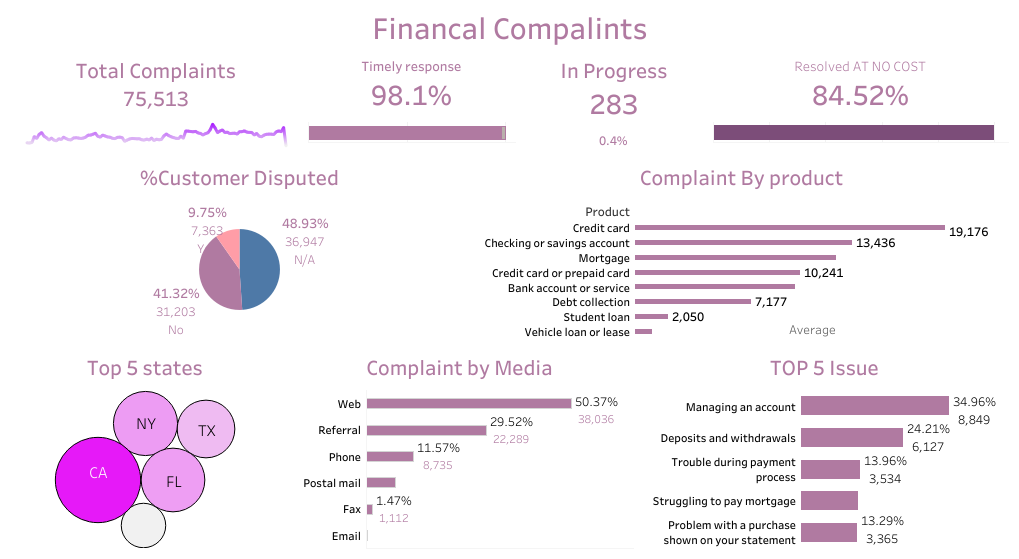

The dashboard page shown, as its layout file describes it:
{"tool":"tableau","page":{"name":"Dashboard 1","canvas":[1000,1000],"units":"permille","ordinal":0},"visuals":[{"type":"text","box":[7.8,14.3,984.3,67.8]},{"type":"worksheet","title":"Total Complaints","mark":"Automatic","rows":["Financial Consumer Complaints.csv_AD0FA6831B8F4021AAC9E62C09"],"cols":["Date Sumbited"],"box":[7.8,82.1,290.2,190.6]},{"type":"worksheet","title":"Timely response","mark":"Automatic","box":[298,82.1,210.8,190.6]},{"type":"worksheet","title":"In Progress","mark":"Automatic","box":[508.8,82.1,186.3,190.6]},{"type":"worksheet","title":"Resolved AT NO COST  ","mark":"Automatic","box":[695.1,82.1,297.1,190.6]},{"type":"worksheet","title":"%Customer Disputed","mark":"Pie","box":[7.8,272.7,453.9,340]},{"type":"worksheet","title":"Complaint By product","mark":"Automatic","rows":["Product"],"cols":["Financial Consumer Complaints.csv_AD0FA6831B8F4021AAC9E62C09"],"box":[461.8,272.7,530.4,340]},{"type":"worksheet","title":"Top 5 states","mark":"Circle","box":[7.8,612.7,268.6,373]},{"type":"worksheet","title":"Complaint by Media","mark":"Bar","rows":["Submitted via"],"cols":["Financial Consumer Complaints.csv_AD0FA6831B8F4021AAC9E62C09"],"box":[276.5,612.7,348.1,373]},{"type":"worksheet","title":"TOP 5 Issue","mark":"Automatic","rows":["Issue"],"cols":["Financial Consumer Complaints.csv_AD0FA6831B8F4021AAC9E62C09"],"box":[624.5,612.7,367.7,373]}]}

Visuals, with their boxes on the dashboard's canvas, which has no fixed pixel size, in thousandths of its width and height (x1, y1, x2, y2). These are canvas units, not pixel positions in the 1019x559 screenshot, which may show the page scaled, cropped or inside an application window:
text: BBox(8, 14, 992, 82)
"Total Complaints" worksheet: BBox(8, 82, 298, 273)
"Timely response" worksheet: BBox(298, 82, 509, 273)
"In Progress" worksheet: BBox(509, 82, 695, 273)
"Resolved AT NO COST  " worksheet: BBox(695, 82, 992, 273)
"%Customer Disputed" worksheet (Pie marks): BBox(8, 273, 462, 613)
"Complaint By product" worksheet: BBox(462, 273, 992, 613)
"Top 5 states" worksheet (Circle marks): BBox(8, 613, 276, 986)
"Complaint by Media" worksheet (Bar marks): BBox(276, 613, 625, 986)
"TOP 5 Issue" worksheet: BBox(624, 613, 992, 986)
